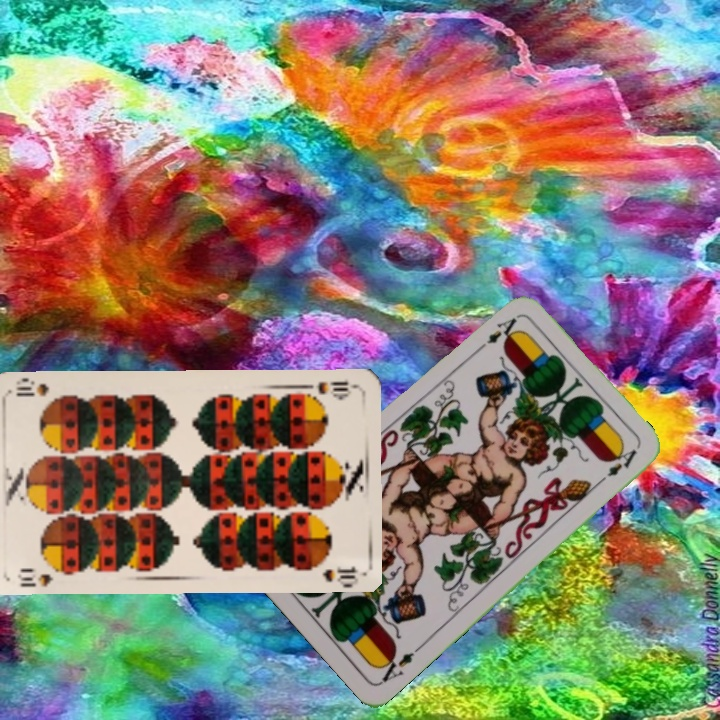EA: (374, 641, 425, 686), (471, 313, 520, 356)
S10: (13, 561, 68, 589), (314, 377, 357, 400)
